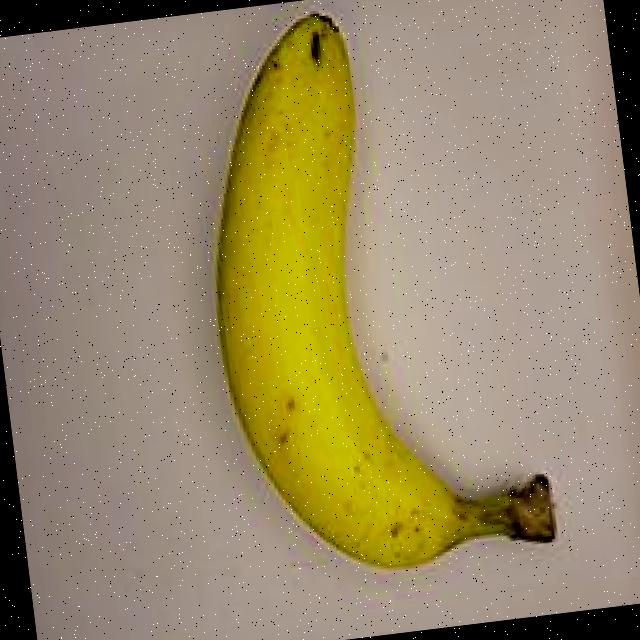Ripe: (121, 0, 603, 615)
